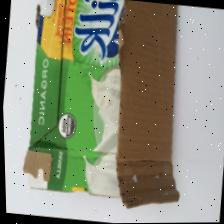cardboard: (9, 0, 202, 212)
